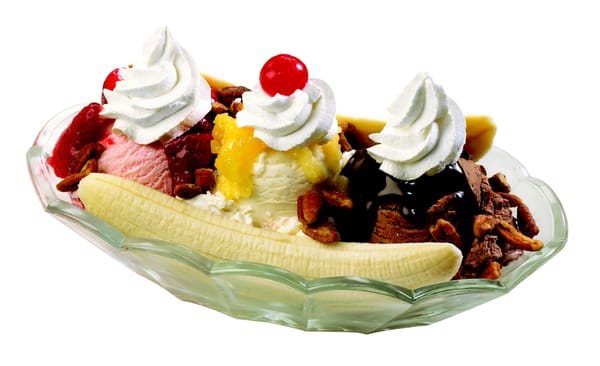burger: (44, 186, 523, 335)
